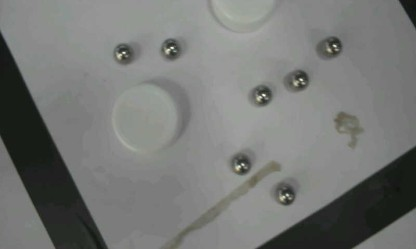ironball: (287, 69, 308, 91), (112, 42, 133, 63), (321, 35, 341, 57), (160, 37, 180, 59), (251, 84, 271, 106), (231, 153, 250, 175), (275, 184, 294, 205)
